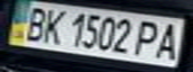0: (97, 14, 118, 53)
1: (63, 10, 87, 47)
2: (112, 16, 139, 55)
5: (78, 11, 103, 51)
A: (151, 20, 187, 61)
B: (15, 3, 51, 43)
K: (36, 7, 69, 45)
P: (130, 18, 166, 58)
